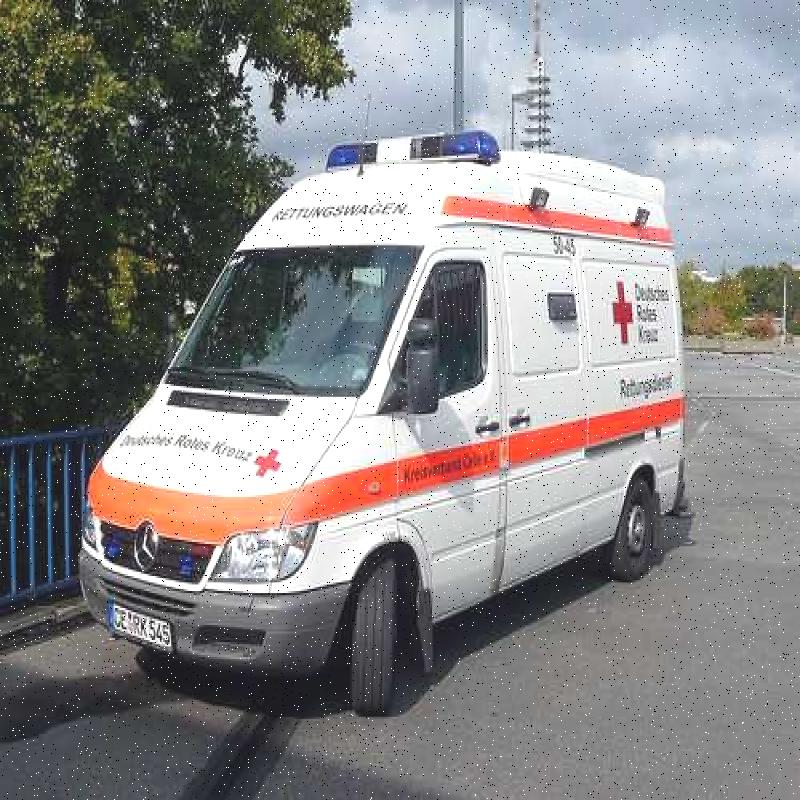AmbulanceSiren: (327, 126, 507, 180)
